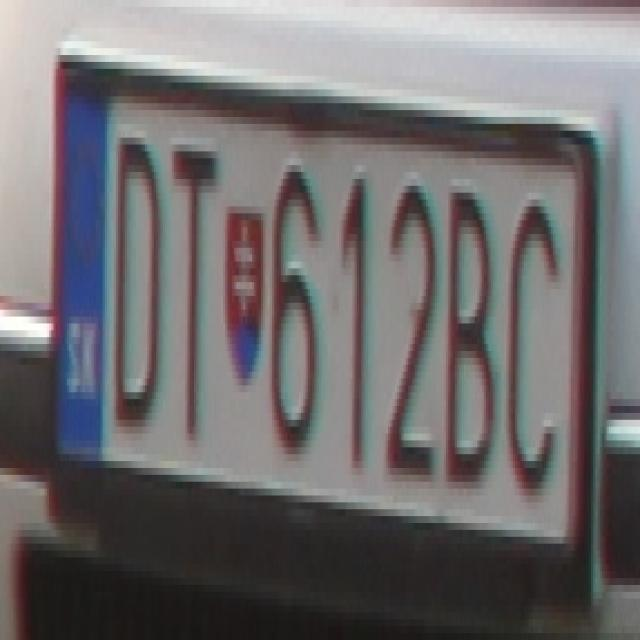1: (339, 172, 368, 482)
2: (381, 165, 437, 489)
6: (265, 151, 319, 461)
B: (440, 165, 494, 489)
C: (502, 186, 555, 488)
D: (102, 117, 162, 434)
T: (170, 130, 214, 462)
